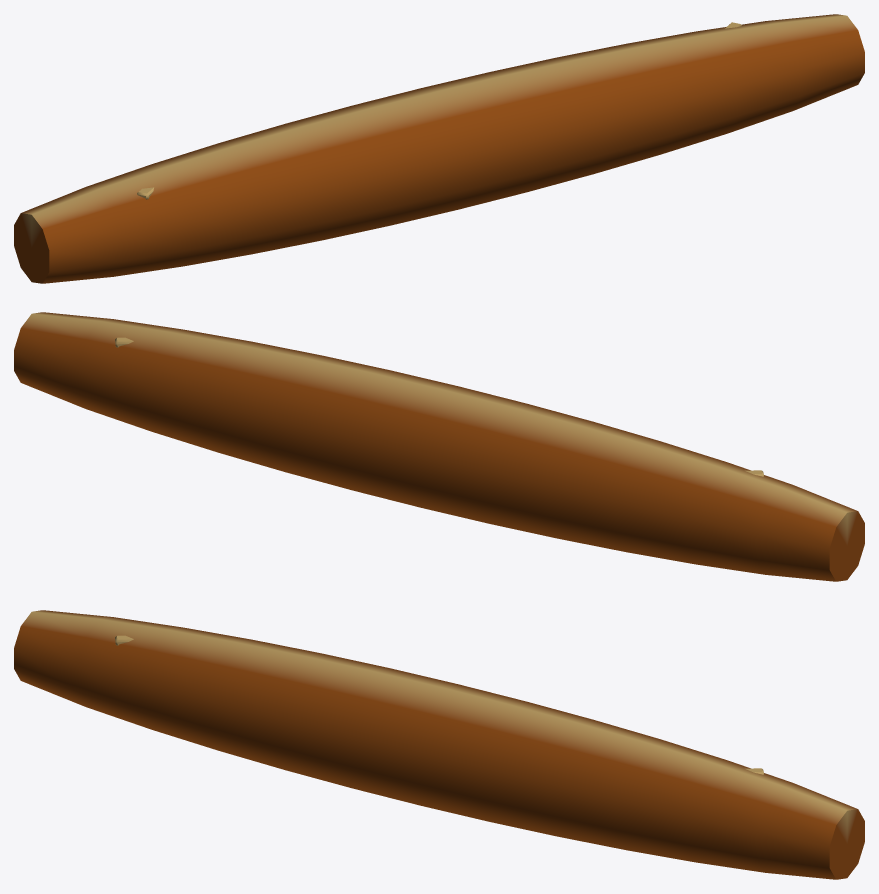
Rendered from mkt-baguette.glb.
The picture shows the model from 3 angles, top to bottom: view 1: azimuth 30°, elevation 25°; view 2: azimuth 150°, elevation 25°; view 3: azimuth 330°, elevation 25°; orthographic projection.
Parts seen in each view (by area): view 1: bread__food; view 2: bread__food; view 3: bread__food.
Part boxes in pixels (x1,y1,x2,y2): bread__food: (14, 14, 864, 283); bread__food: (14, 312, 864, 581); bread__food: (14, 610, 864, 879).
Size of the model in its own units: 0.5 by 0.068 by 0.0647.
